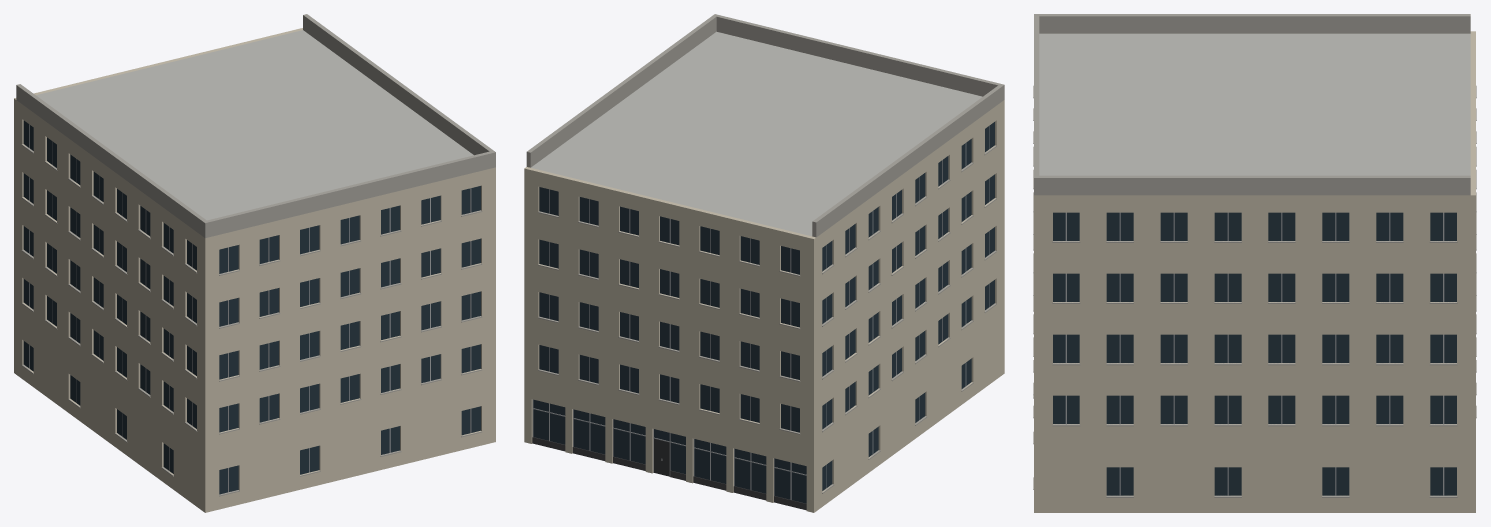
The model's file is tf_dt_bank_hotel_5s.glb.
The picture shows the model from 3 angles, left to right: view 1: azimuth 30°, elevation 25°; view 2: azimuth 150°, elevation 25°; view 3: azimuth 270°, elevation 25°; orthographic projection. The views are drawn at different scales.
Visible parts, largest first — view 1: tf_dt_bank_hotel_5s-col; view 2: tf_dt_bank_hotel_5s-col; view 3: tf_dt_bank_hotel_5s-col.
Part boxes in pixels (x1,y1,x2,y2): tf_dt_bank_hotel_5s-col: [14, 14, 495, 512]; tf_dt_bank_hotel_5s-col: [524, 14, 1004, 512]; tf_dt_bank_hotel_5s-col: [1033, 14, 1476, 512].
Size of the model in its own units: 21.66 by 20.57 by 24.66.
